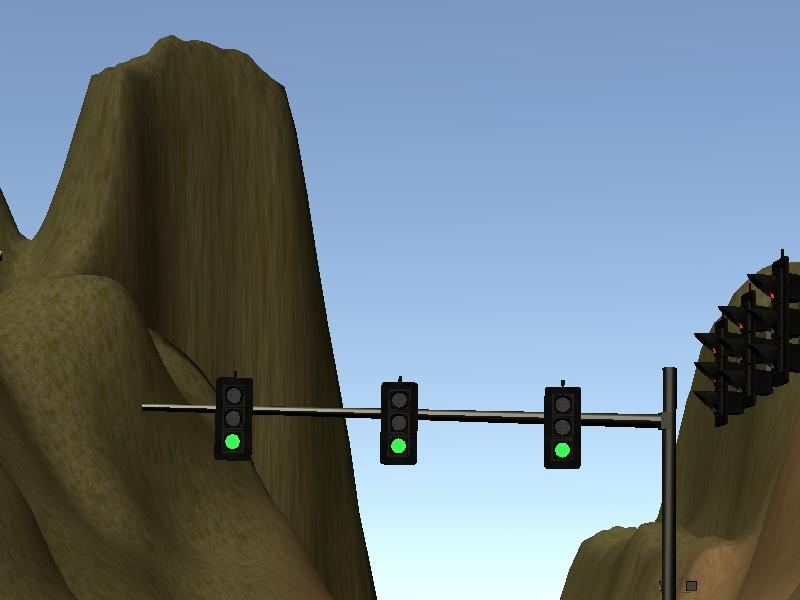green: (378, 376, 419, 471), (542, 384, 583, 471), (215, 376, 253, 465)
